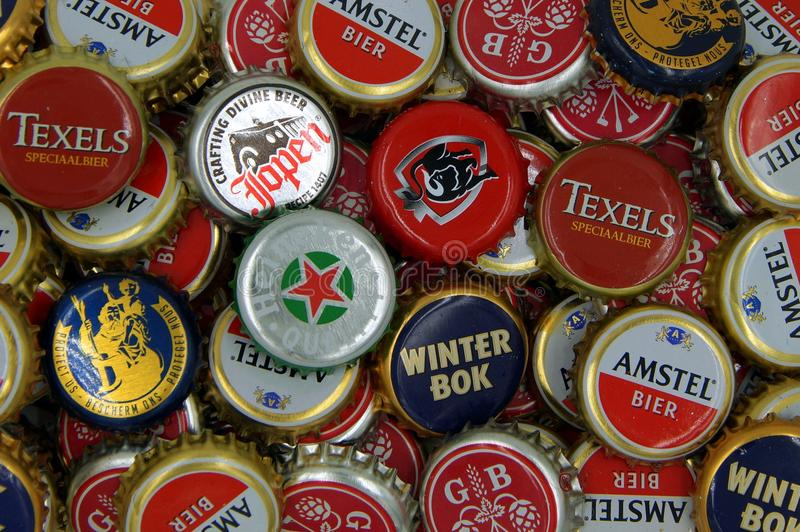amstel: (579, 310, 737, 460), (294, 1, 446, 105), (568, 437, 702, 532)
grolsch: (418, 428, 578, 532), (450, 1, 593, 96)
heineken: (239, 211, 396, 370)
jupiler: (365, 101, 528, 261)
